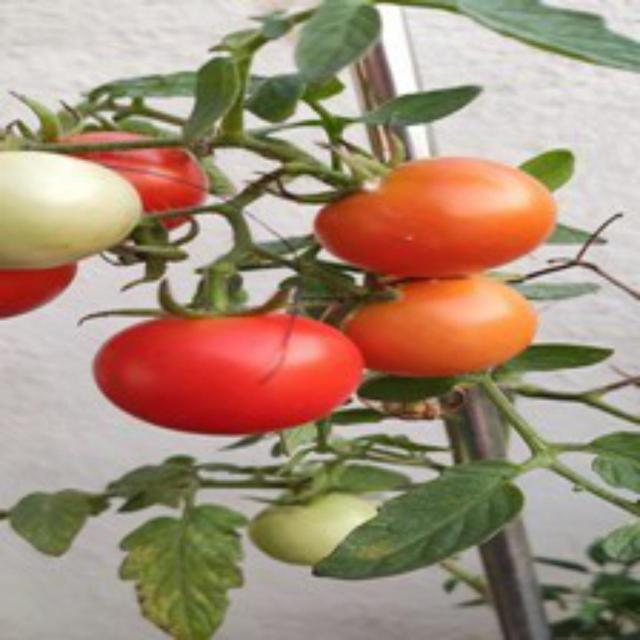tomato: (308, 138, 570, 278), (96, 312, 360, 432)
